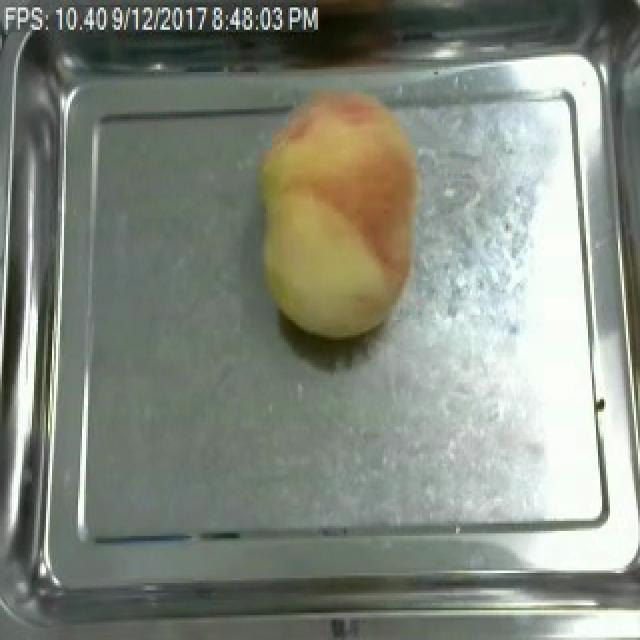Fruit: (244, 77, 428, 345)
